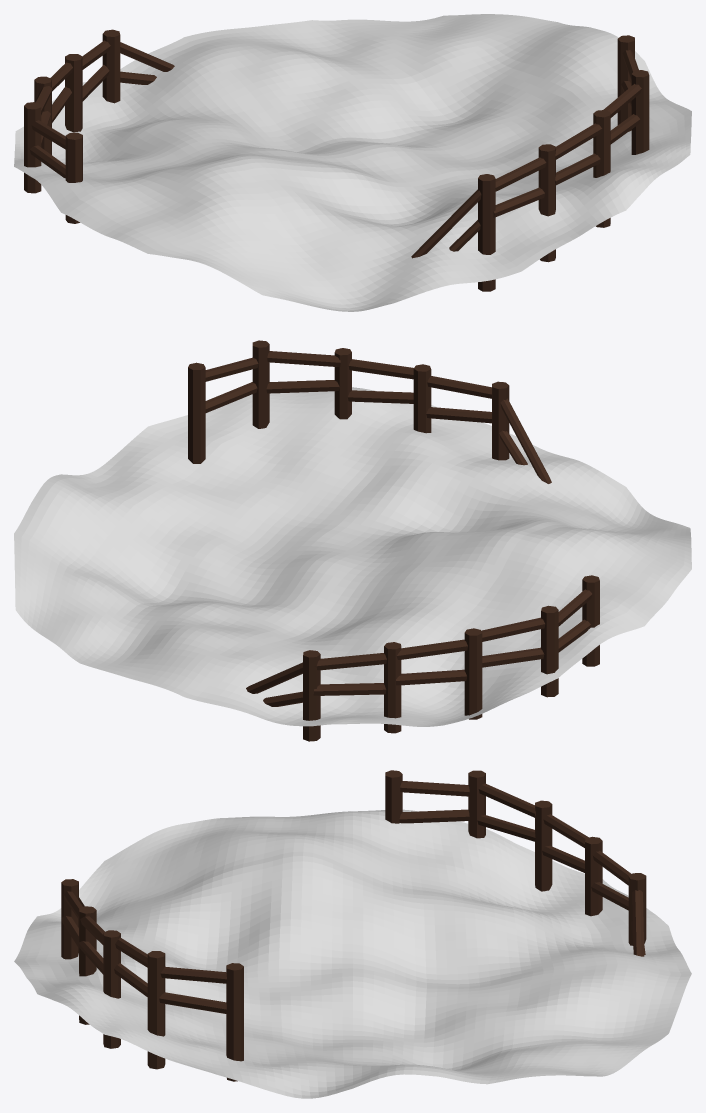
File: plains biome.fbx
3 views of the same model, one above another, from view 1: azimuth 30°, elevation 25°; view 2: azimuth 150°, elevation 25°; view 3: azimuth 270°, elevation 25° (orthographic).
Visible parts, largest first — view 1: field, fence.001, fence.004; view 2: field, fence.001, fence.004; view 3: field, fence.004, fence.001.
Boxes of the visible parts, x1,y1,x2,y2 form: field: [14, 14, 691, 311]; fence.001: [411, 35, 649, 291]; fence.004: [24, 29, 174, 223]; field: [14, 387, 691, 726]; fence.001: [188, 340, 551, 483]; fence.004: [246, 575, 599, 741]; field: [14, 809, 691, 1098]; fence.004: [385, 770, 646, 956]; fence.001: [61, 879, 243, 1081].
Size of the model in its own units: 1936 by 469 by 1936.
